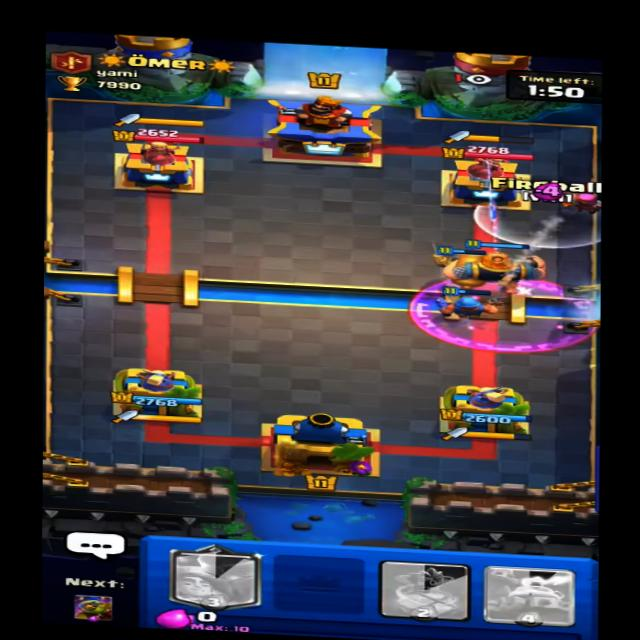Firecracker: (547, 177, 603, 220)
Rage: (406, 271, 588, 358)
